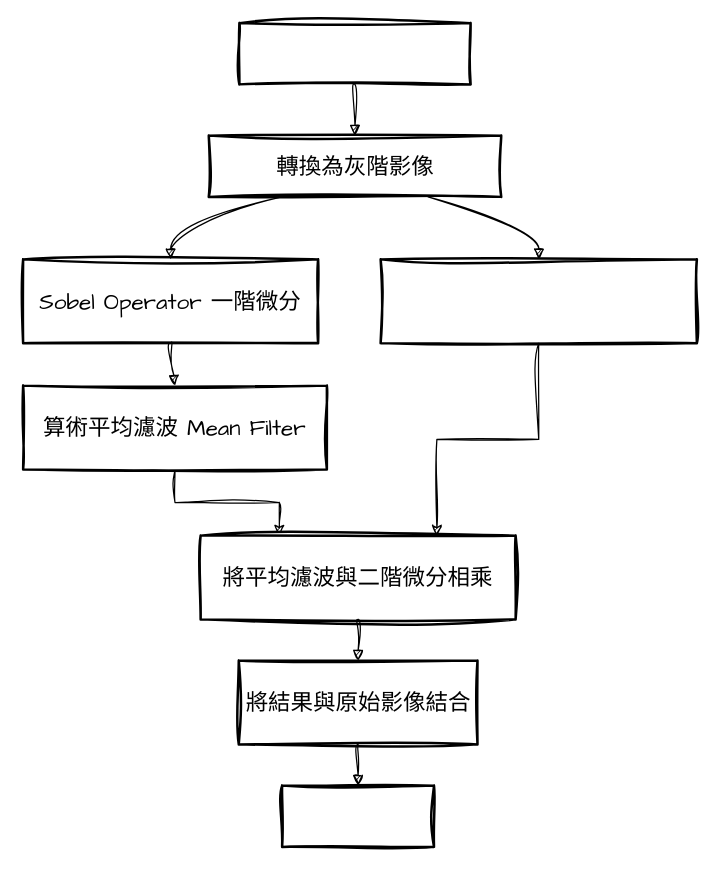
Image size: 719x869. Some labels were removed from this diagram. The shapes that lost their labels are listed below. From the top down, each one's centre as x and y in pixels, then its label:
At [354,53]: "載入原始影像".
At [538,301]: "Laplace Operator 二階微分".
At [357,816]: "完成".
